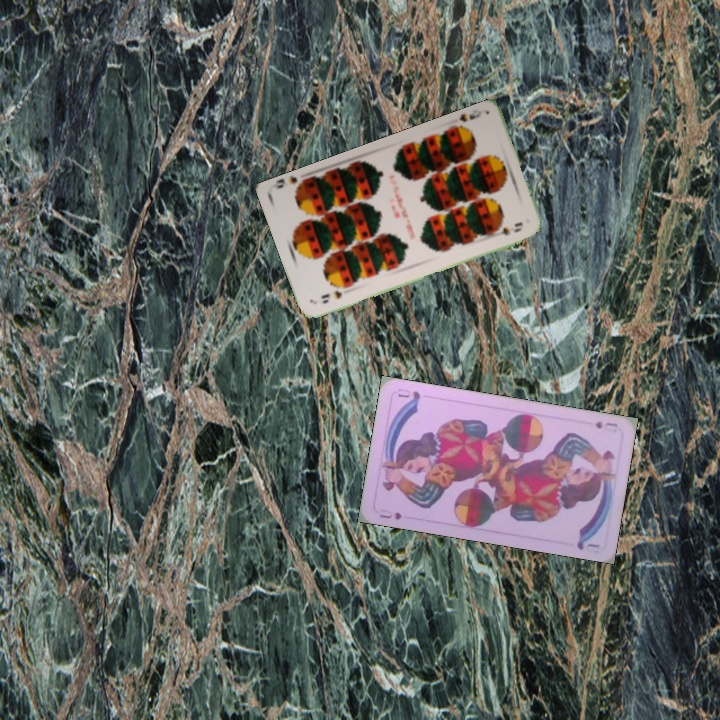S9: (448, 106, 484, 134), (317, 286, 344, 306)
SU: (375, 505, 404, 522), (591, 417, 620, 431)
